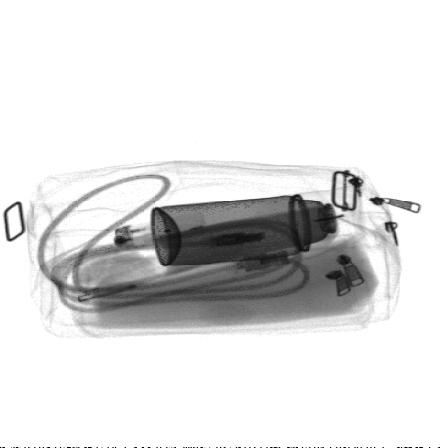Lighter: (114, 210, 207, 251)
Sprayer: (151, 186, 368, 266)
